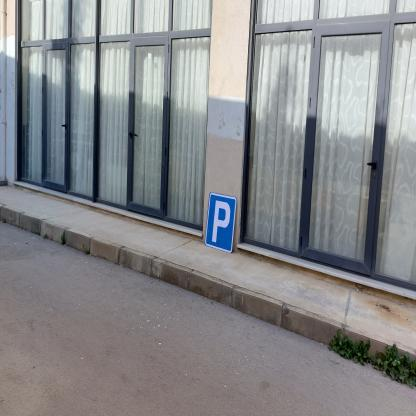Parking-Sign: (205, 193, 238, 255)
